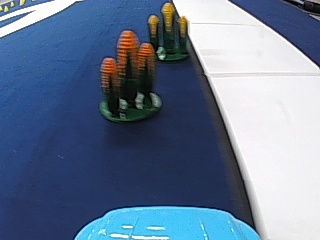corn: (98, 25, 159, 130), (148, 3, 190, 63)
